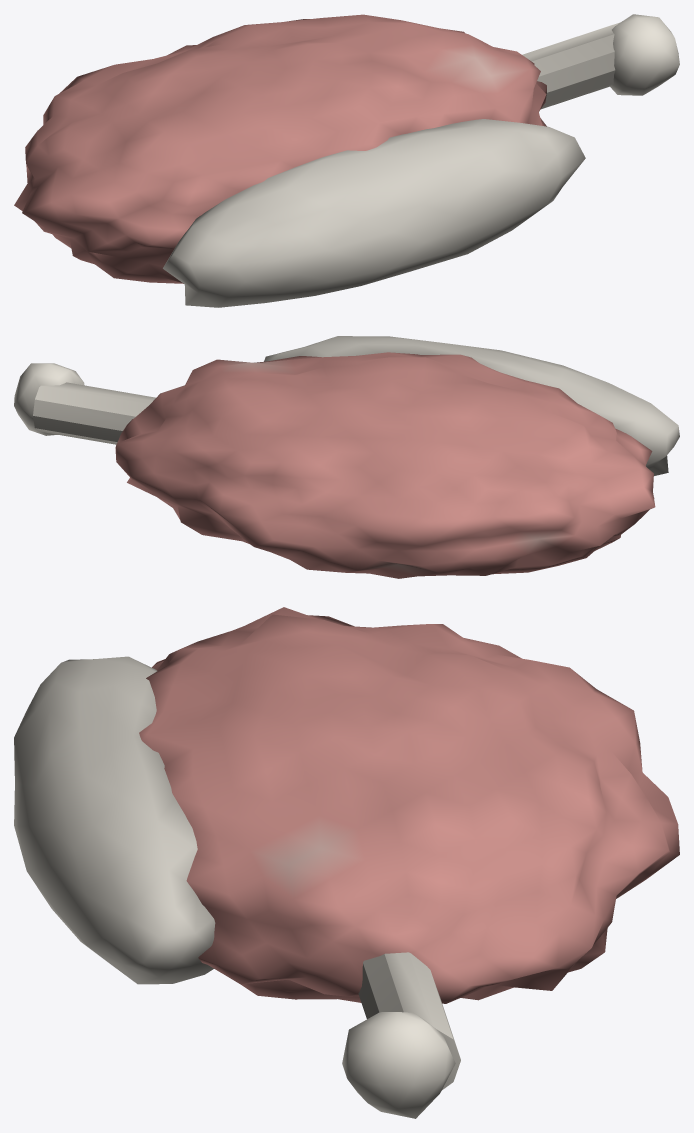
Rendered from raw-pork.glb.
3 views of the same model, one above another, from view 1: azimuth 30°, elevation 25°; view 2: azimuth 150°, elevation 25°; view 3: azimuth 270°, elevation 25° (orthographic). The views are drawn at different scales.
Parts seen in each view (by area): view 1: Body_lod0; view 2: Body_lod0; view 3: Body_lod0.
Part boxes in pixels (left/top/right/bottom): Body_lod0: left=14, top=14, right=679, bottom=307; Body_lod0: left=14, top=336, right=679, bottom=578; Body_lod0: left=14, top=607, right=679, bottom=1118.
Size of what is drawn, in the model's own units: 0.2015 by 0.0367 by 0.1277.
